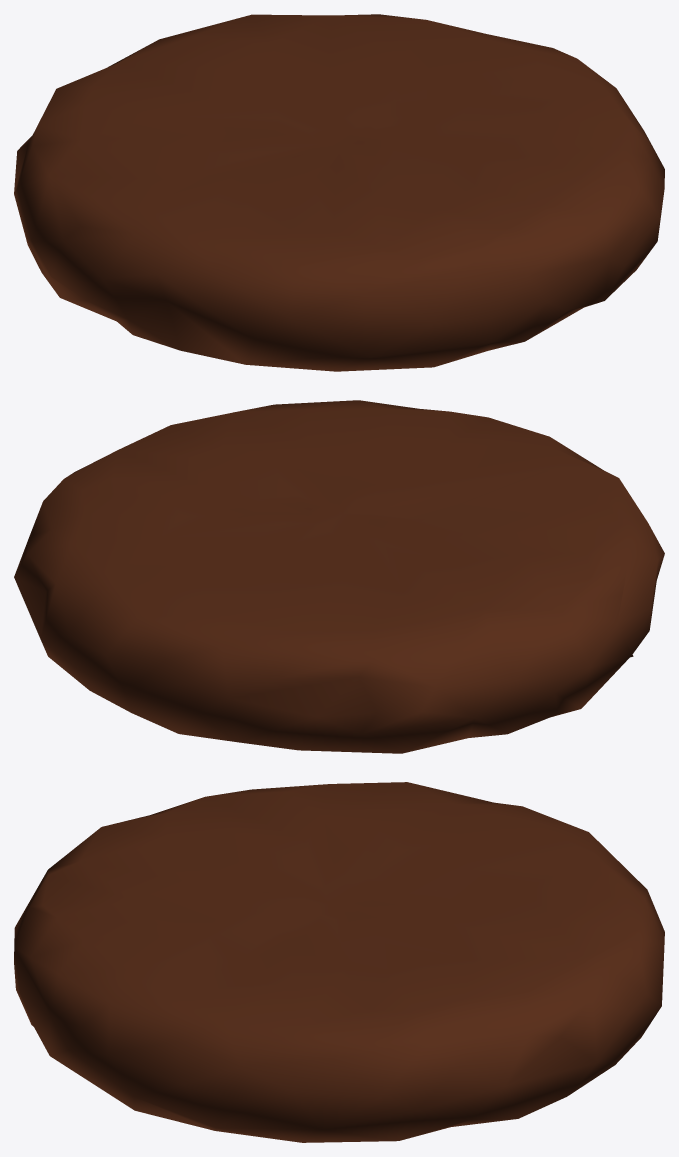
File: patty.fbx
3 renders of one model, top to bottom at view 1: azimuth 30°, elevation 25°; view 2: azimuth 150°, elevation 25°; view 3: azimuth 270°, elevation 25°, orthographic. The views are drawn at different scales.
Parts seen in each view (by area): view 1: patty; view 2: patty; view 3: patty.
Boxes of the visible parts, x1,y1,x2,y2 form: patty: [14, 14, 664, 371]; patty: [14, 400, 664, 753]; patty: [14, 782, 664, 1142].
Bounding box in the file's own units: 273 × 55.94 × 266.
